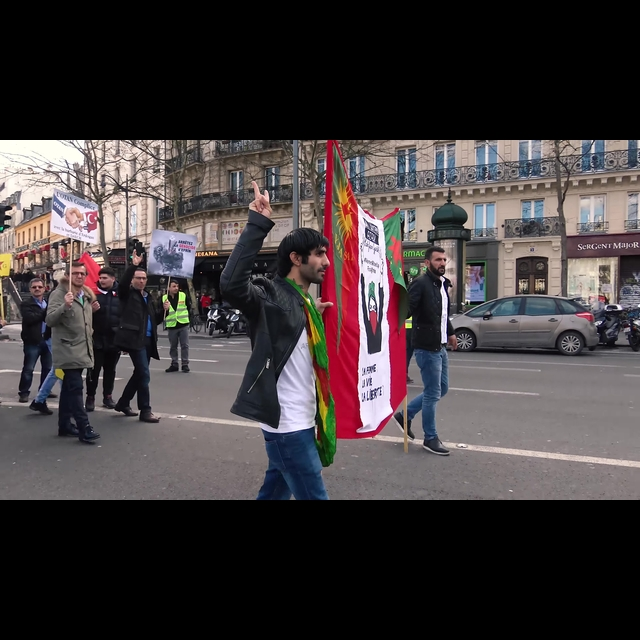ZI: (240, 178, 281, 230)
